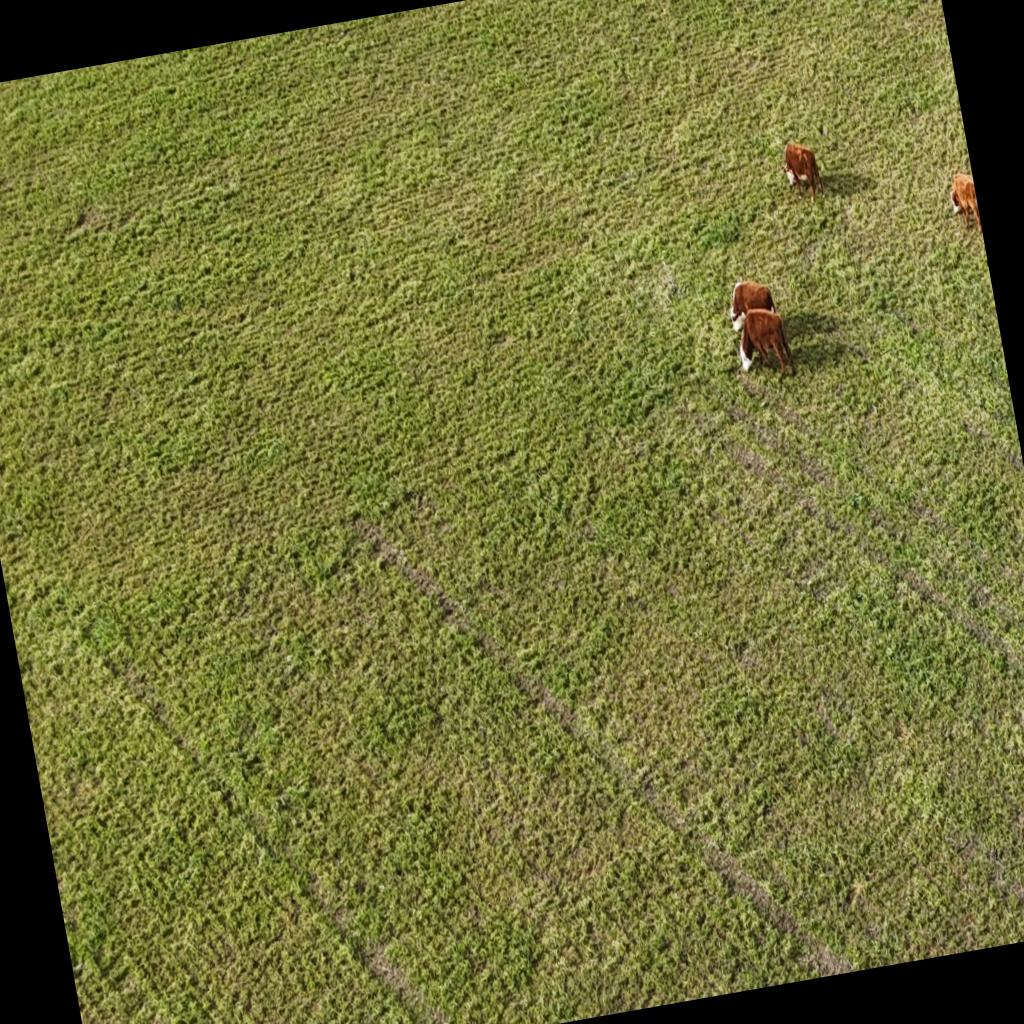cow: (730, 304, 800, 392), (774, 132, 828, 209), (722, 276, 778, 334), (944, 168, 982, 240)
